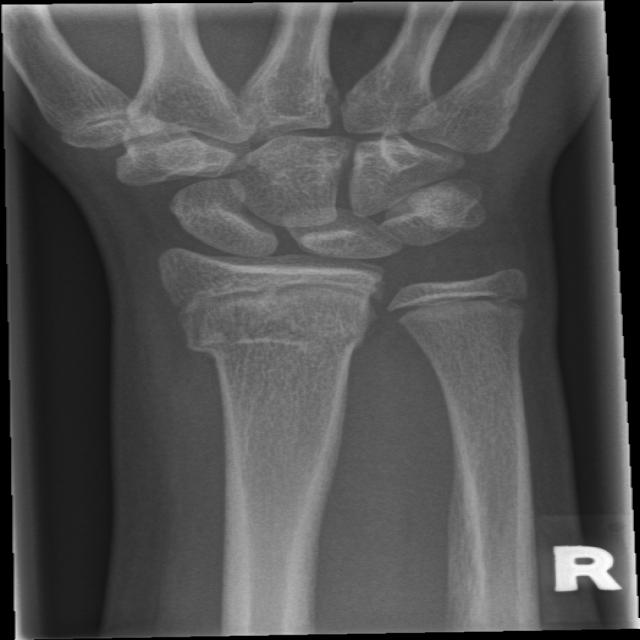radius fracture: (153, 298, 376, 487)
